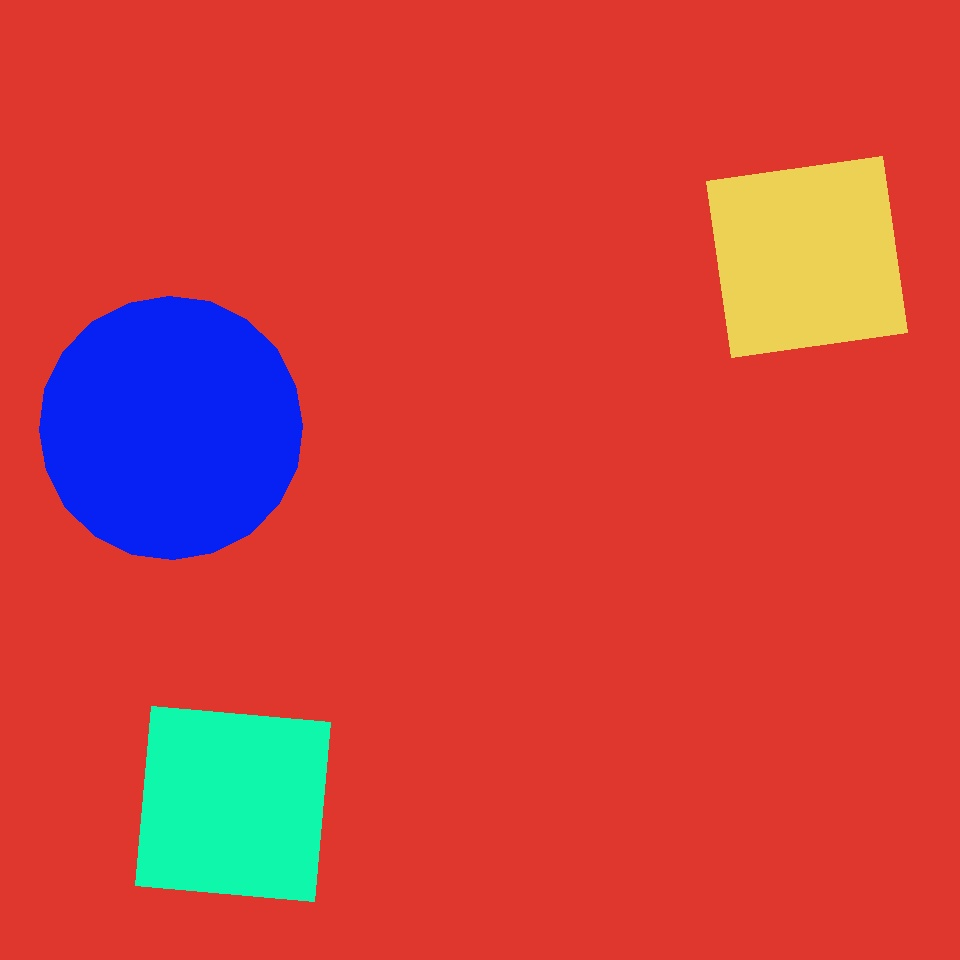circle: (409, 159, 493, 255)
square: (706, 156, 908, 358), (136, 706, 330, 902), (101, 713, 276, 888), (604, 466, 779, 640)
triangle: (39, 296, 302, 560), (210, 677, 473, 940), (414, 114, 627, 327), (779, 516, 884, 621)
